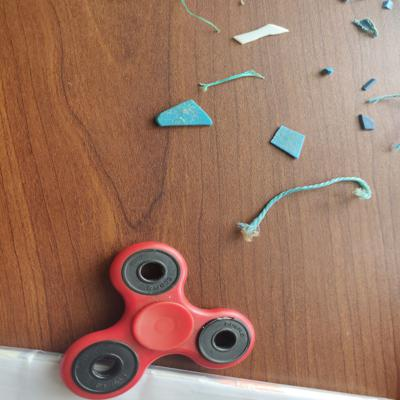plastic: (151, 98, 217, 132), (268, 122, 310, 164), (230, 22, 292, 46), (351, 13, 380, 43), (353, 111, 381, 134), (357, 69, 380, 94), (319, 62, 333, 78)
thread: (233, 173, 377, 247), (193, 68, 268, 91), (177, 1, 224, 36), (363, 91, 400, 105)
